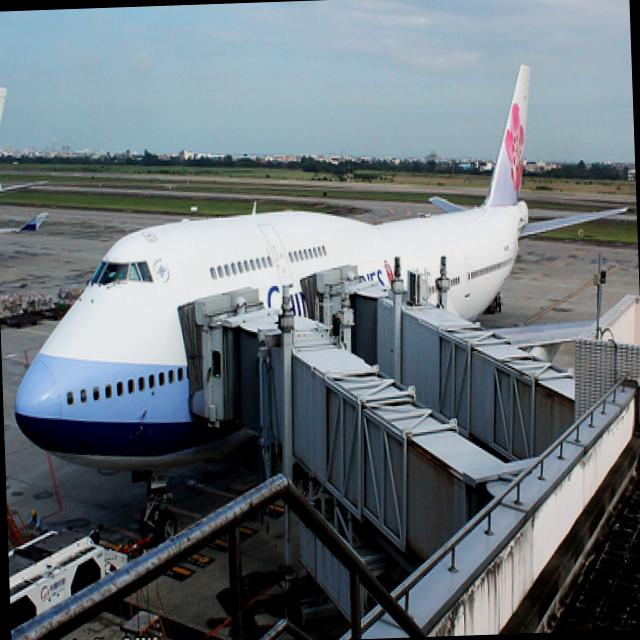Vehicle: (7, 525, 132, 640)
